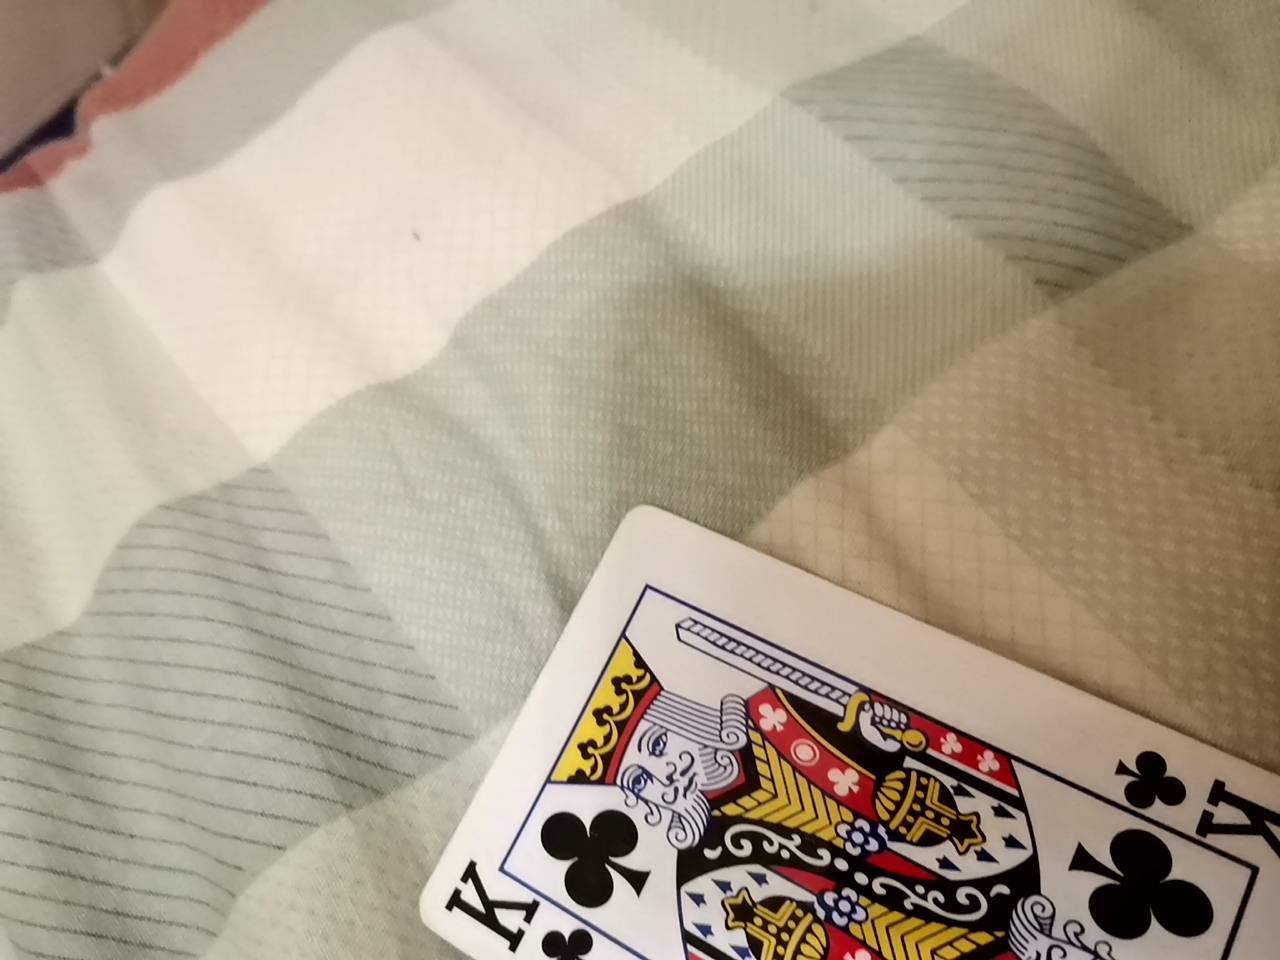mh k: (390, 510, 1280, 952)
